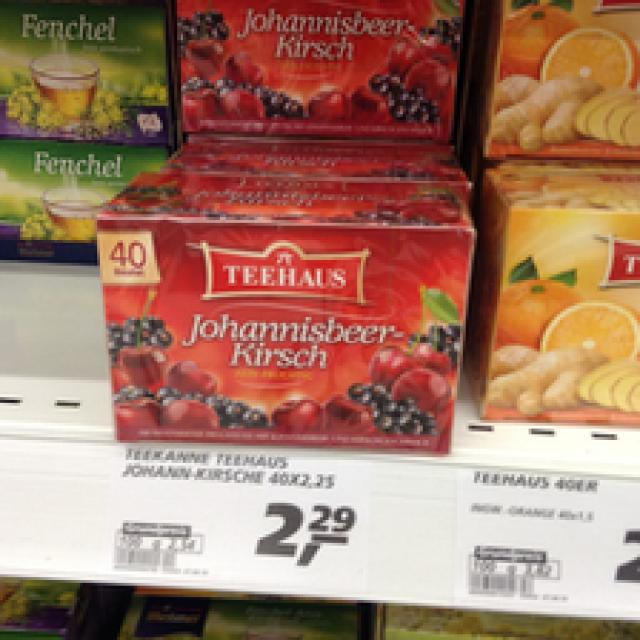groceries: (94, 166, 469, 454), (169, 0, 460, 137), (474, 172, 637, 412)
